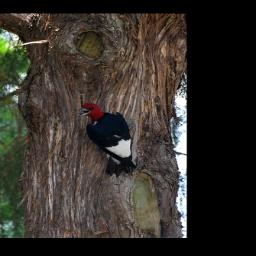Woodpecker: (74, 100, 142, 177)
